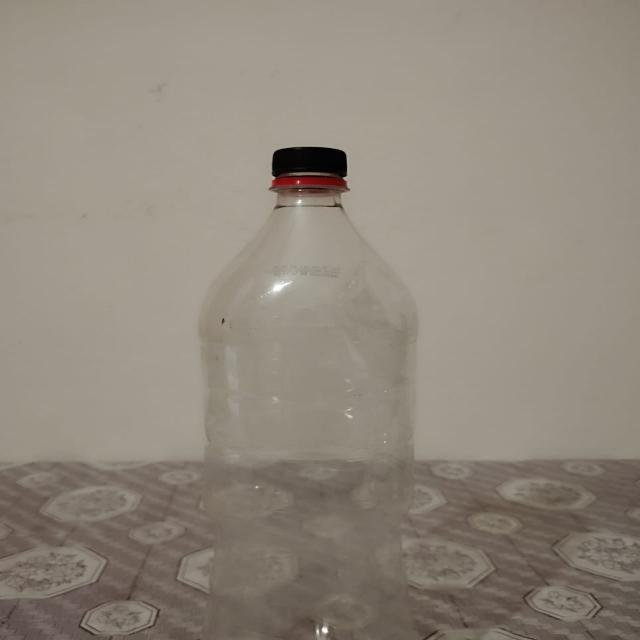bottle: (204, 148, 420, 638)
cap: (273, 147, 349, 188)
